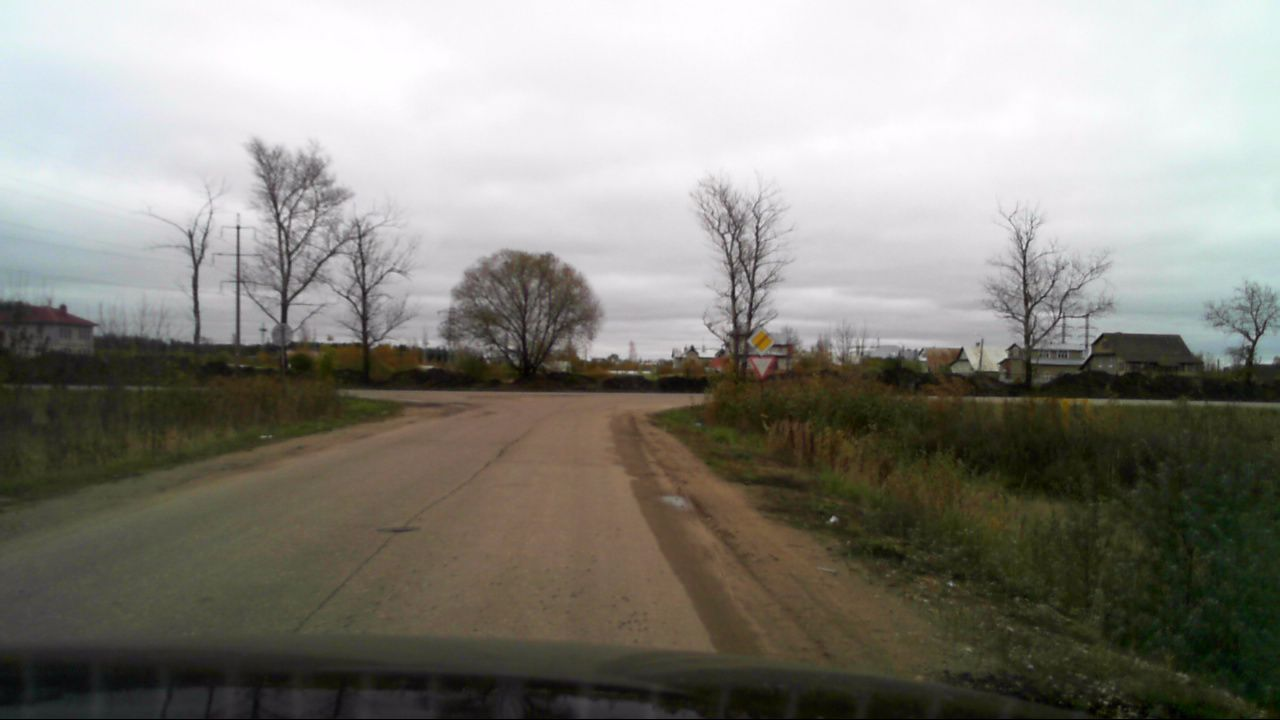main road: (746, 327, 775, 354)
